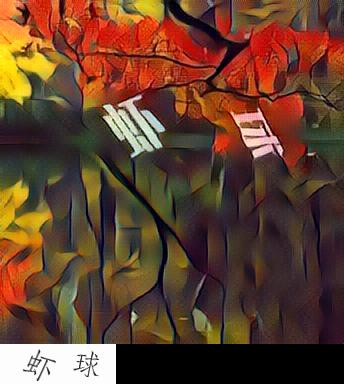character: (96, 91, 170, 160), (223, 104, 290, 164)
